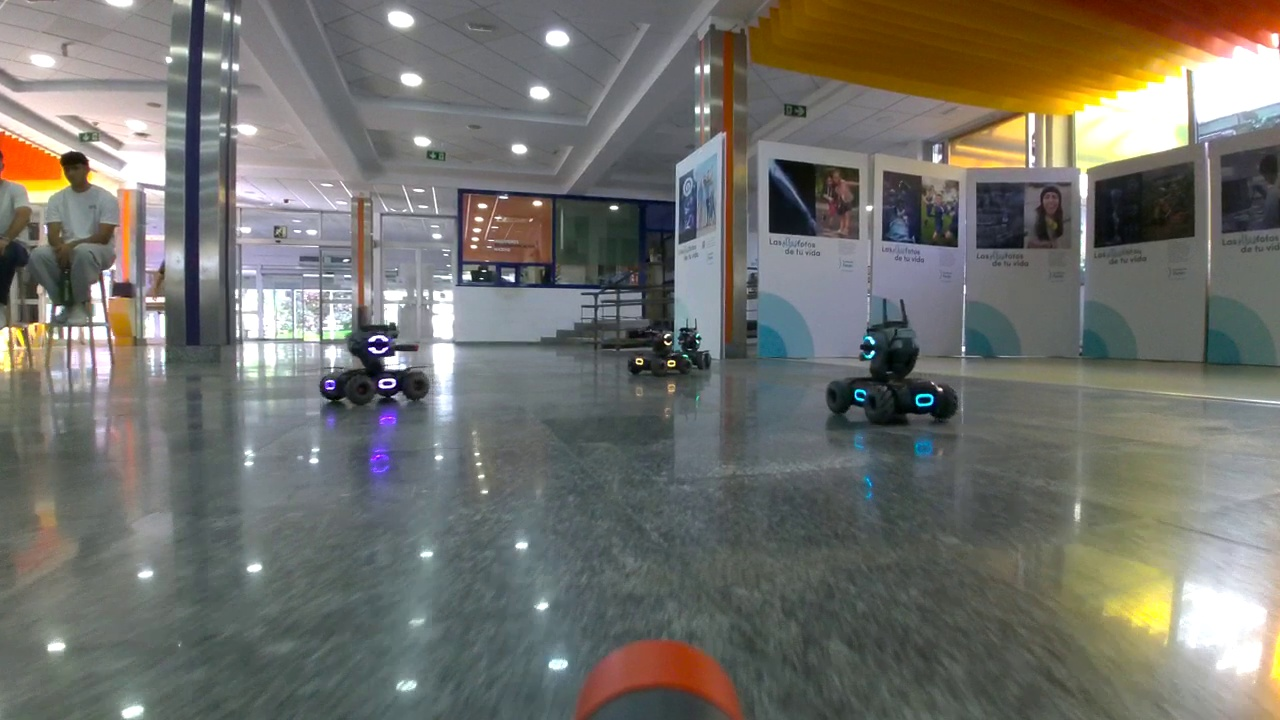robot: (825, 298, 963, 426), (319, 305, 429, 406), (628, 327, 689, 378), (675, 317, 712, 377)
